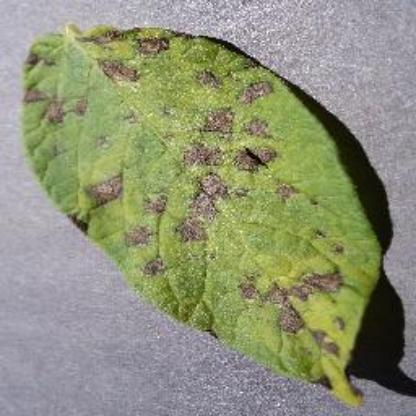Early-Blight: (19, 22, 392, 408)
